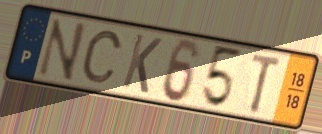5: (198, 44, 246, 110)
6: (159, 36, 203, 105)
C: (79, 28, 125, 85)
K: (119, 31, 165, 96)
N: (34, 16, 89, 84)
T: (248, 51, 284, 115)
